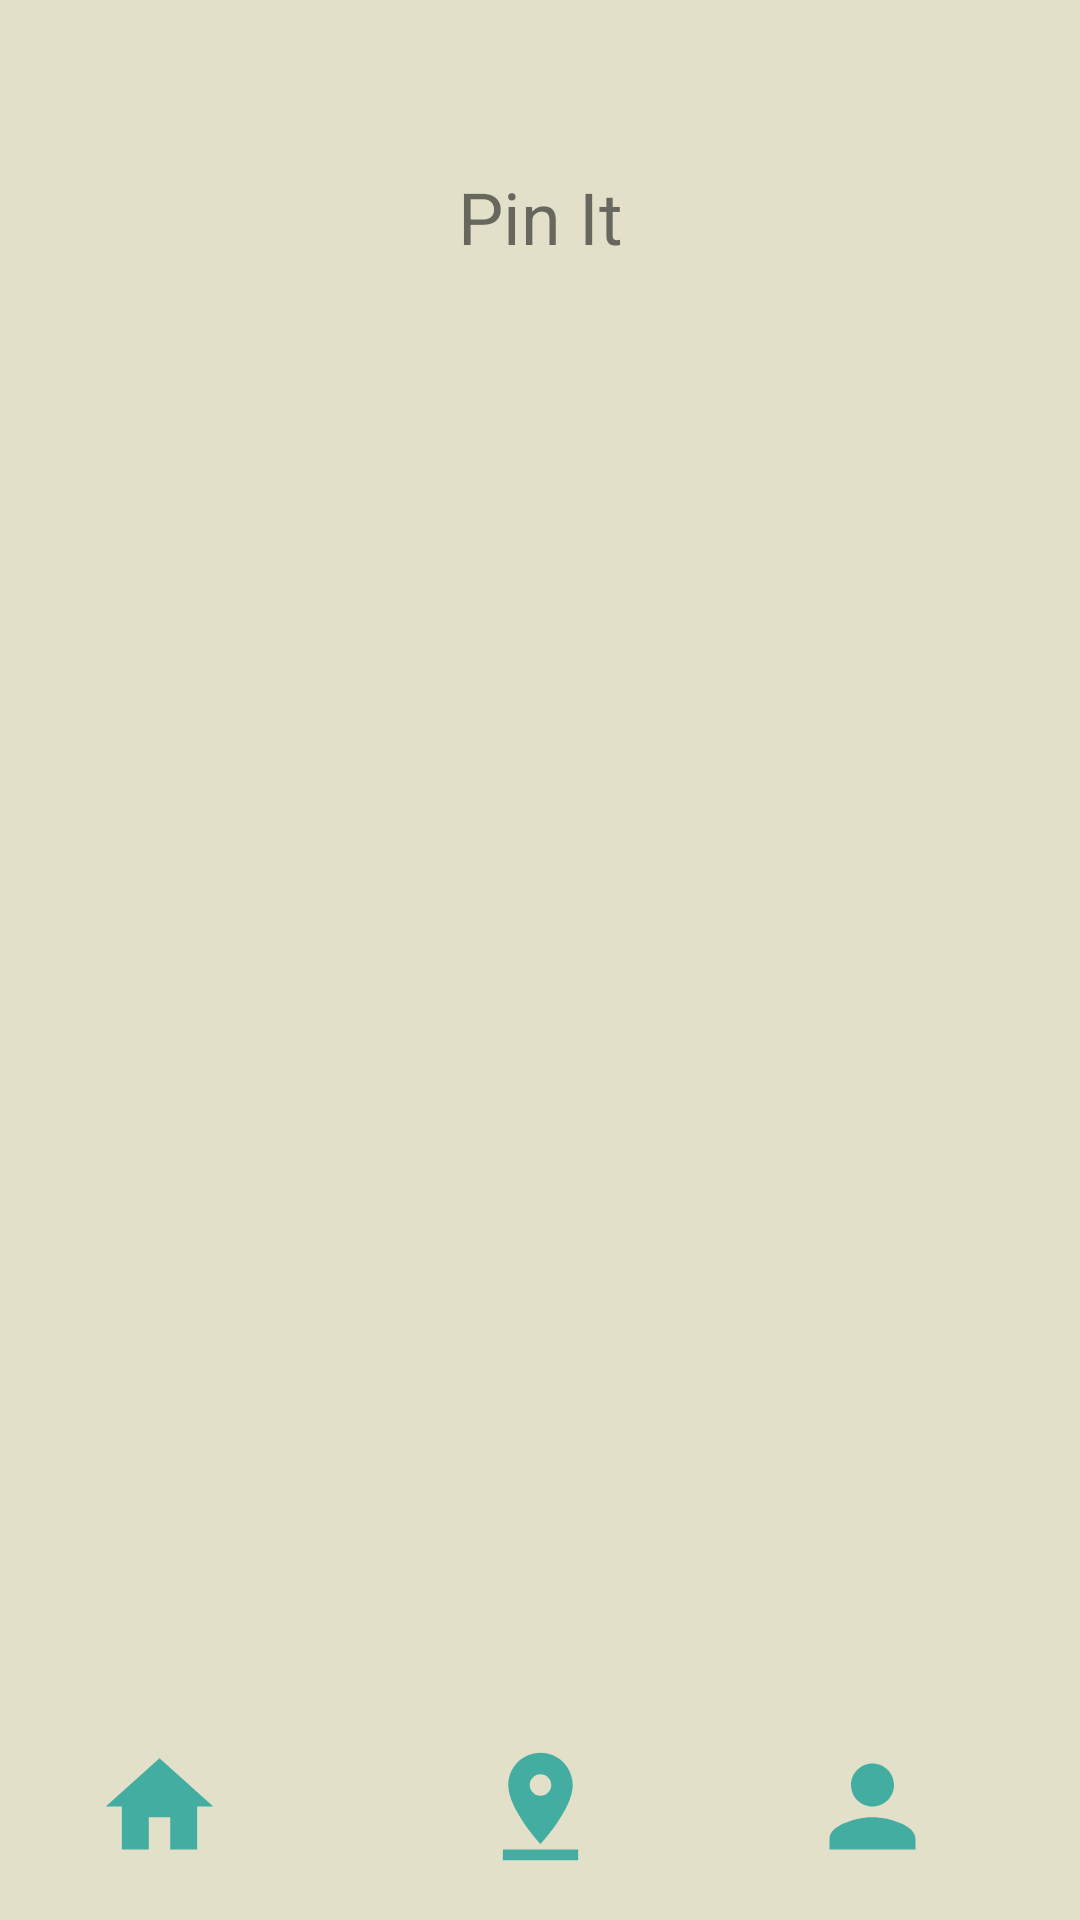

Named icons in this screenshot (1080w x 1920h) and their bounding boxes, [x1,y1,x2,y2]:
home: [106,1758,213,1850]
pin: [503,1752,578,1861]
profile: [829,1763,916,1850]
